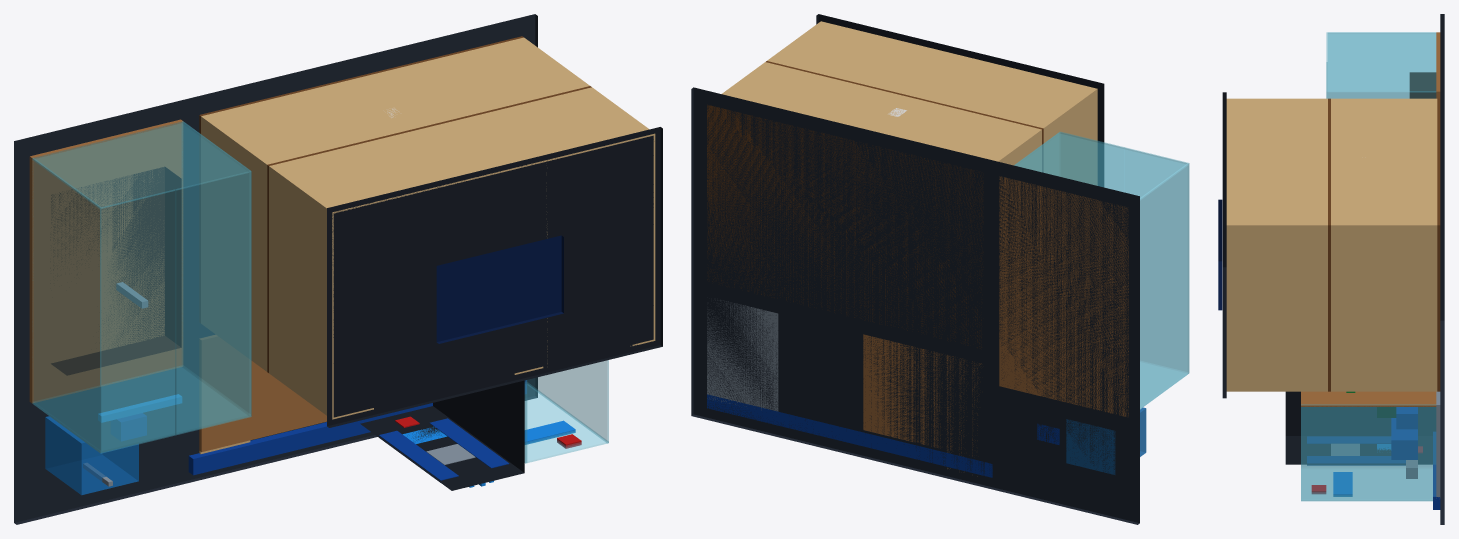
Rendered from project_domus.obj.
The picture shows the model from 3 angles, left to right: view 1: azimuth 30°, elevation 25°; view 2: azimuth 150°, elevation 25°; view 3: azimuth 270°, elevation 25°; orthographic projection. The views are drawn at different scales.
Visible parts, largest first — view 1: Techo_removible, Base_1000x700, Invernadero_base, PB_muro_posterior, PA_muro_posterior, Cubierta_invernadero_B, Cubierta_invernadero_A, Invernadero_pared_izquierda, Invernadero_pared_derecha, PB_muro_lateral_izquierdo, Cama_de_cultivo, PA_muro_lateral_izquierdo (+16 smaller); view 2: Base_1000x700, Invernadero_base, Piso_planta_baja, PA_muro_posterior, PB_muro_posterior, Cubierta_invernadero_A, Invernadero_pared_izquierda, Entrada_cubierta, Bahía_técnica_base, Invernadero_fondo, Canal_principal_de_cables, PA_muro_lateral_izquierdo (+7 smaller); view 3: PB_muro_lateral_derecho, PA_muro_lateral_derecho, PB_muro_posterior, PA_muro_posterior, Bahía_lateral_derecha, Invernadero_fondo, Bahía_lateral_izquierda, Invernadero_pared_izquierda, Torre_Jarvis_cuerpo, Bahía_frente_removible, Base_1000x700, Bahía_técnica_fondo (+15 smaller).
Boxes of the visible parts, box(x1,y1,x2,y2) form: Techo_removible: box(327, 127, 662, 427); Base_1000x700: box(14, 14, 537, 524); Invernadero_base: box(29, 119, 183, 403); PB_muro_posterior: box(201, 37, 589, 165); PA_muro_posterior: box(269, 87, 655, 213); Cubierta_invernadero_B: box(175, 171, 251, 434); Cubierta_invernadero_A: box(100, 189, 175, 453); Invernadero_pared_izquierda: box(32, 158, 100, 452); Invernadero_pared_derecha: box(182, 121, 250, 414); PB_muro_lateral_izquierdo: box(201, 116, 267, 370); Cama_de_cultivo: box(51, 166, 181, 375); PA_muro_lateral_izquierdo: box(269, 165, 333, 418); Base_1000x700: box(691, 87, 1139, 524); Invernadero_base: box(999, 176, 1128, 416); Piso_planta_baja: box(707, 104, 983, 348); PA_muro_posterior: box(767, 21, 1097, 129); PB_muro_posterior: box(722, 62, 1041, 161); Cubierta_invernadero_A: box(1124, 147, 1189, 372); Invernadero_pared_izquierda: box(1140, 163, 1188, 408); Entrada_cubierta: box(863, 334, 981, 456); Bahía_técnica_base: box(707, 300, 778, 411); Invernadero_fondo: box(1014, 132, 1188, 199); Canal_principal_de_cables: box(707, 394, 992, 477); PA_muro_lateral_izquierdo: box(1043, 88, 1097, 185); PB_muro_lateral_derecho: box(1331, 225, 1437, 391); PA_muro_lateral_derecho: box(1226, 225, 1327, 391); PB_muro_posterior: box(1331, 99, 1437, 226); PA_muro_posterior: box(1226, 99, 1327, 226); Bahía_lateral_derecha: box(1301, 404, 1435, 500); Invernadero_fondo: box(1328, 32, 1435, 92); Bahía_lateral_izquierda: box(1301, 407, 1435, 467); Invernadero_pared_izquierda: box(1328, 32, 1435, 98); Torre_Jarvis_cuerpo: box(1285, 391, 1435, 464); Bahía_frente_removible: box(1301, 469, 1432, 500); Base_1000x700: box(1440, 14, 1444, 524); Bahía_técnica_fondo: box(1301, 391, 1436, 406).
Bounding box in the file's own units: 1000 × 700 × 468.
